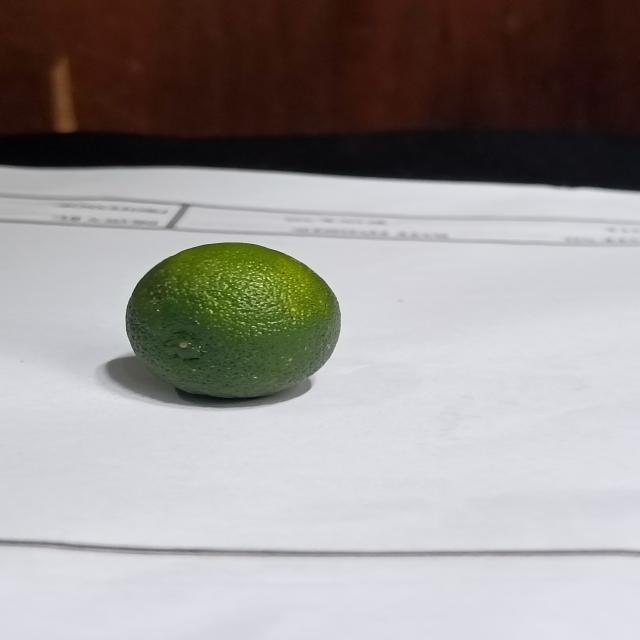heathy: (126, 240, 342, 402)
